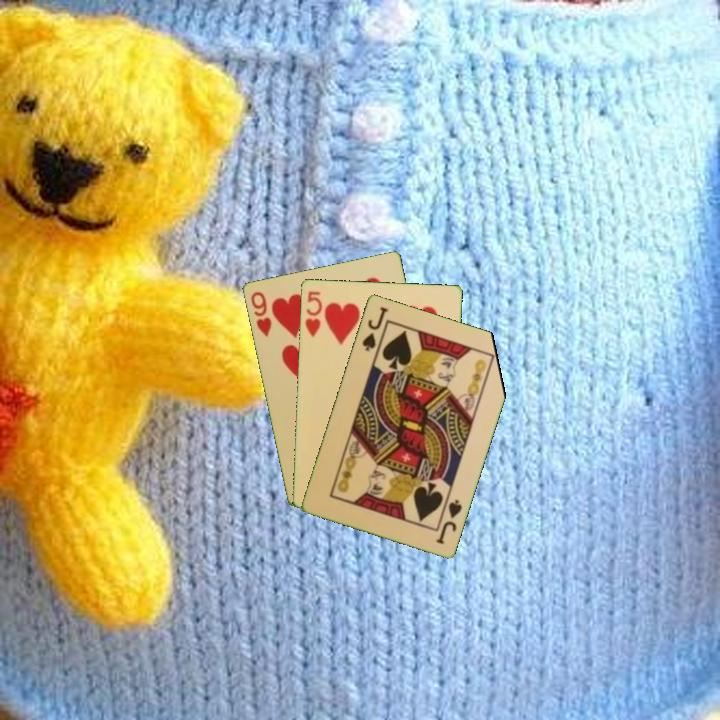5h: (301, 288, 325, 339)
9h: (247, 288, 274, 340)
Js: (432, 493, 465, 547), (358, 303, 391, 354)
